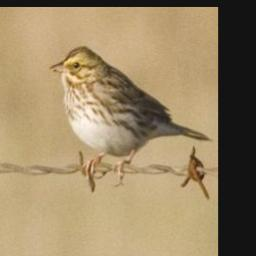Sparrow: (47, 41, 212, 186)
